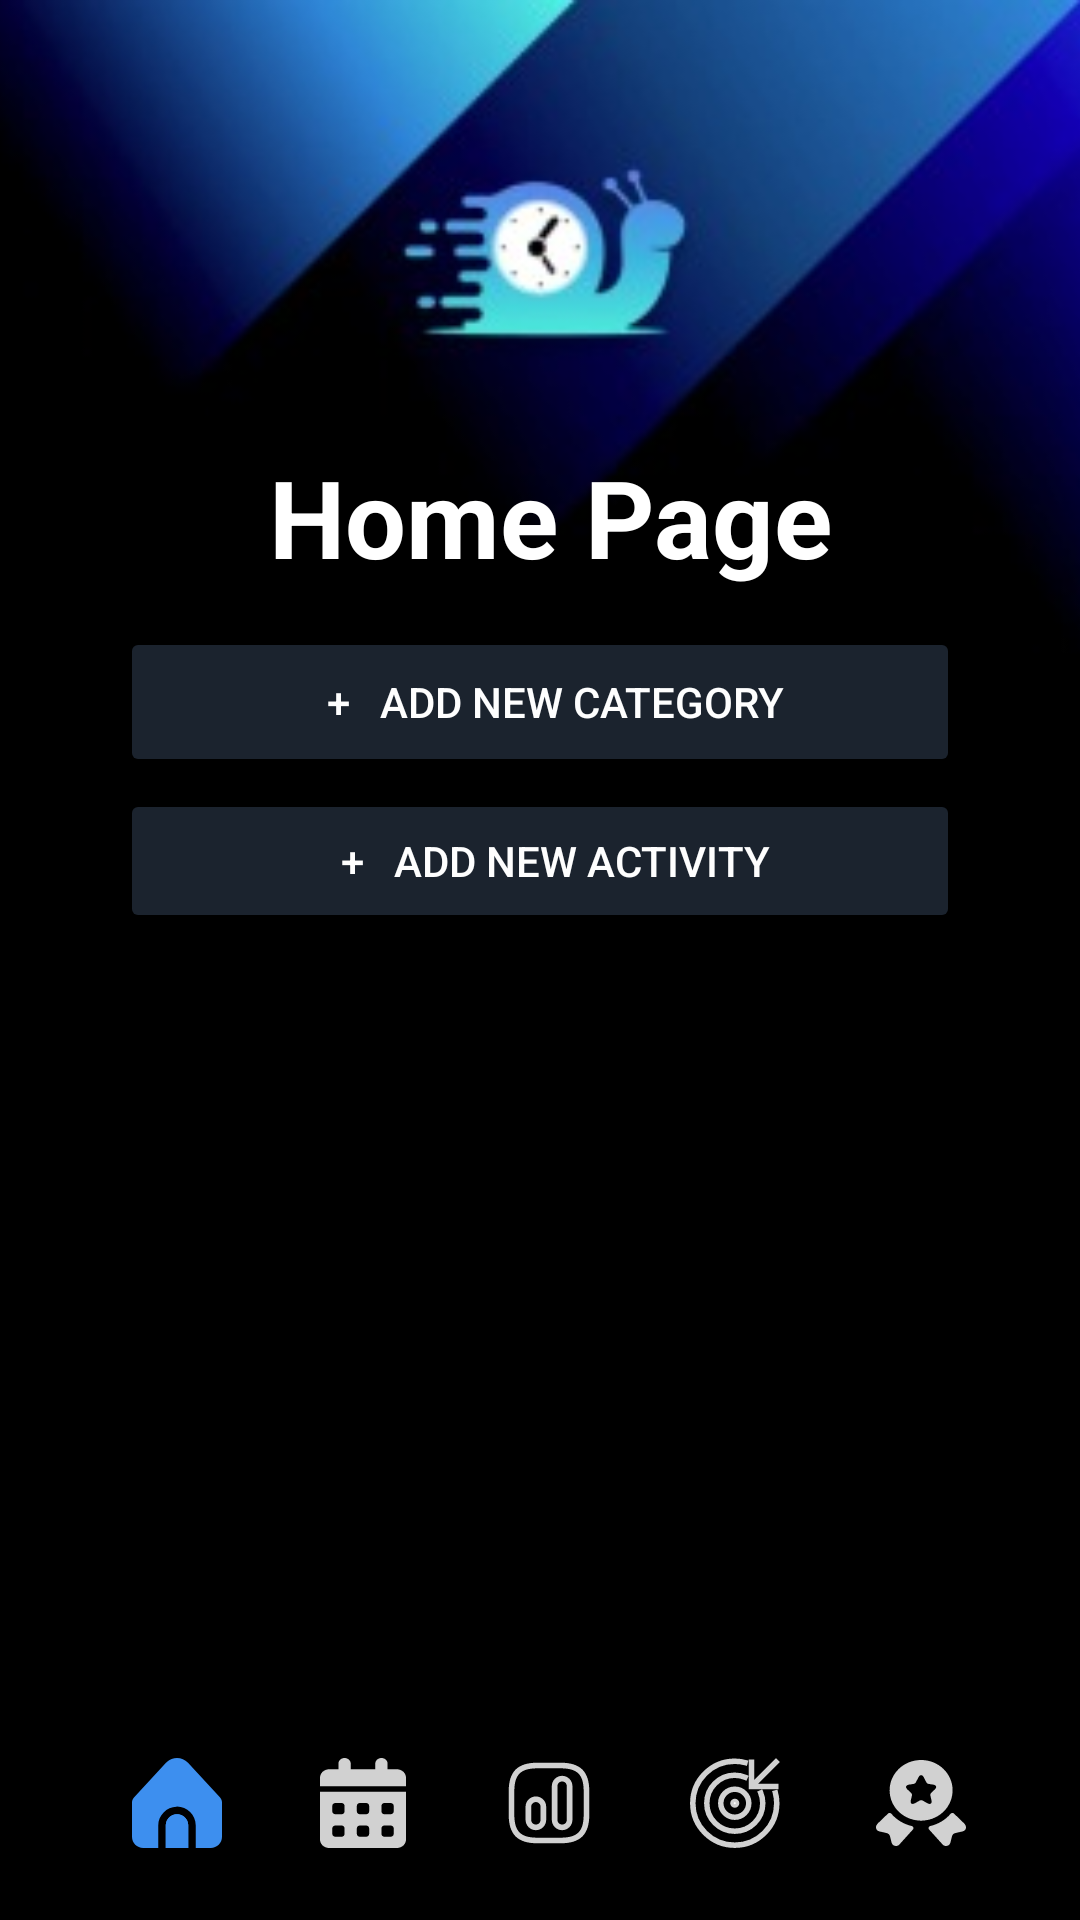

Screen size 1080w x 1920h. Icon name, then its center in pixels as (x=x, y=y):
calander: (x=363, y=1803)
goals: (x=735, y=1803)
home: (x=177, y=1803)
stats: (x=549, y=1803)
